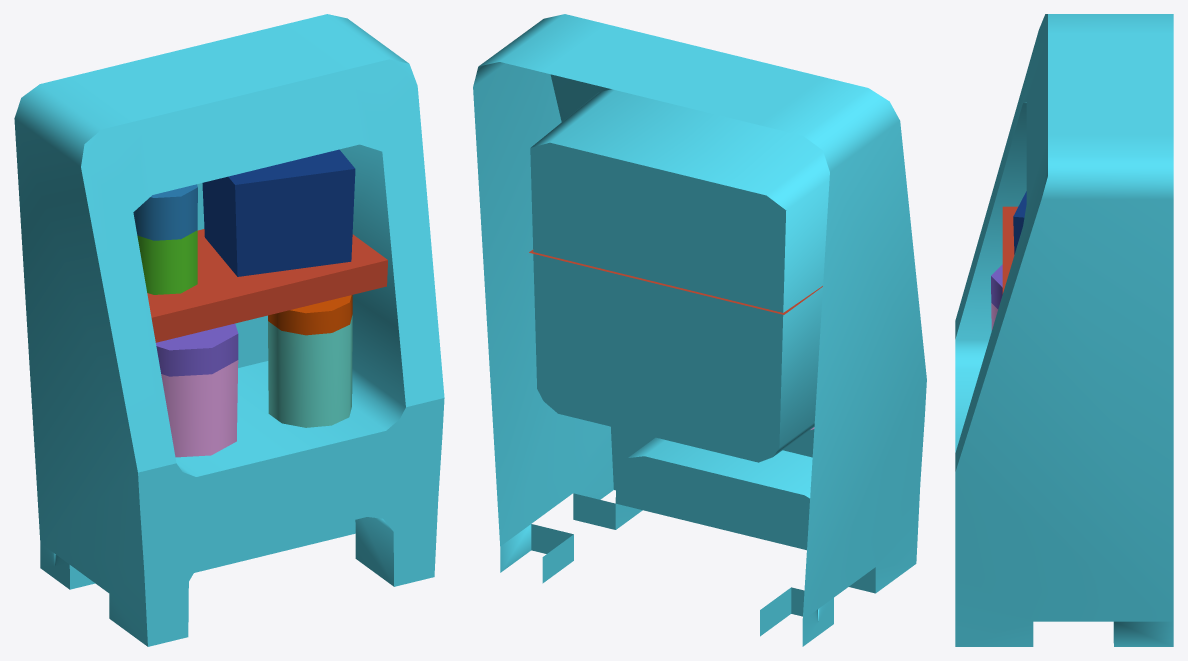
The model's file is icebox01_s02.FBX.
3 views of the same model, side by side, from view 1: azimuth 30°, elevation 25°; view 2: azimuth 150°, elevation 25°; view 3: azimuth 270°, elevation 25° (orthographic). The views are drawn at different scales.
Parts seen in each view (by area): view 1: icebox01_s02; view 2: icebox01_s02; view 3: icebox01_s02.
Part boxes in pixels (x1,y1,x2,y2): icebox01_s02: (14, 14, 444, 646); icebox01_s02: (473, 14, 926, 646); icebox01_s02: (955, 14, 1173, 646).
Size of the model in its own units: 137 by 75.82 by 188.
1 material, 1 textured.
